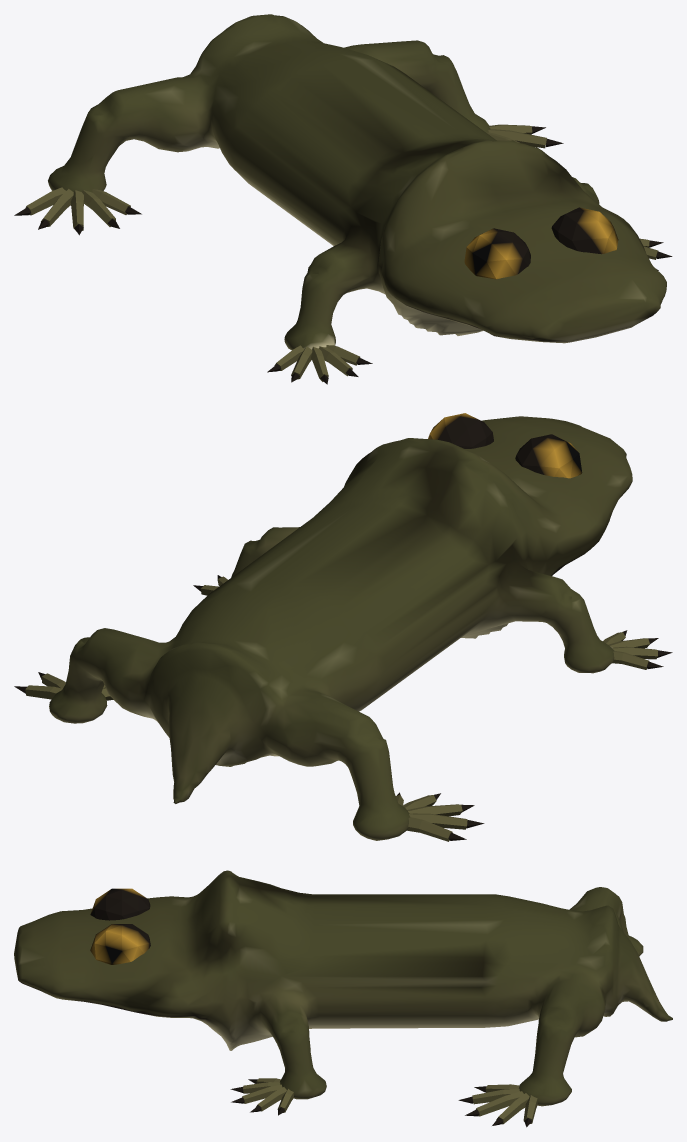
The model's file is Triadobatrachus.fbx.
3 renders of one model, top to bottom at view 1: azimuth 30°, elevation 25°; view 2: azimuth 150°, elevation 25°; view 3: azimuth 270°, elevation 25°, orthographic. The views are drawn at different scales.
Visible parts, largest first — view 1: Triadobatrachus; view 2: Triadobatrachus; view 3: Triadobatrachus.
Part boxes in pixels (<box>): Triadobatrachus: <box>14,14,672,384</box>; Triadobatrachus: <box>14,413,672,841</box>; Triadobatrachus: <box>14,870,672,1127</box>.
Bounding box in the file's own units: 0.488 × 0.1817 × 0.6713.
